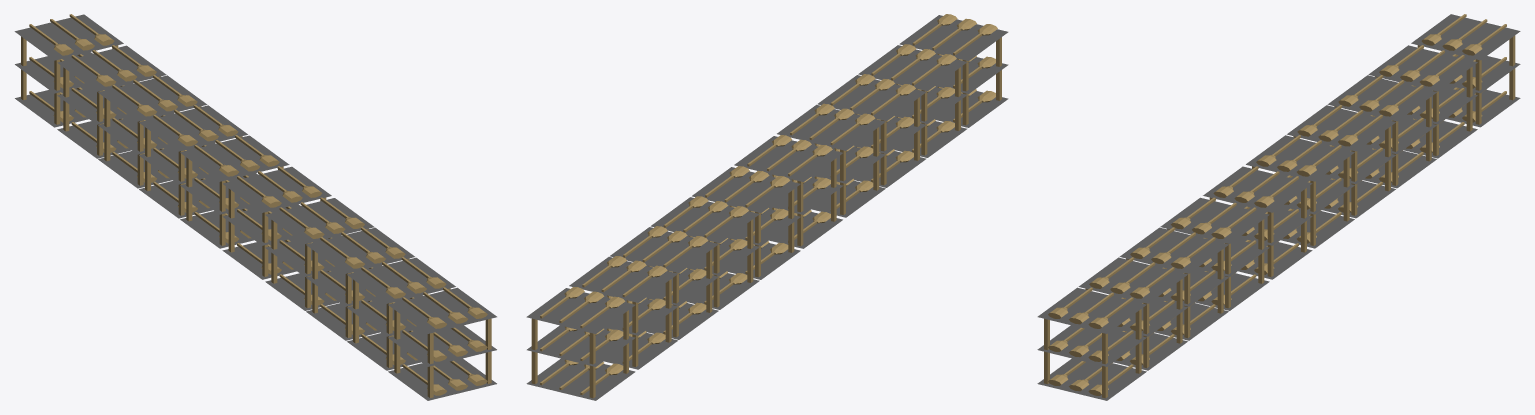
Rendered from EstanteEscoba_atlas.obj.
3 views of the same model, side by side, from view 1: azimuth 30°, elevation 25°; view 2: azimuth 150°, elevation 25°; view 3: azimuth 330°, elevation 25° (orthographic).
Visible parts, largest first — view 1: EstanteEscobas; view 2: EstanteEscobas; view 3: EstanteEscobas.
Part boxes in pixels (box(x1,y1,x2,y2)): EstanteEscobas: box(14, 14, 496, 400); EstanteEscobas: box(526, 14, 1008, 400); EstanteEscobas: box(1037, 14, 1520, 400).
Bounding box in the file's own units: 2 × 1.99 × 20.52.
